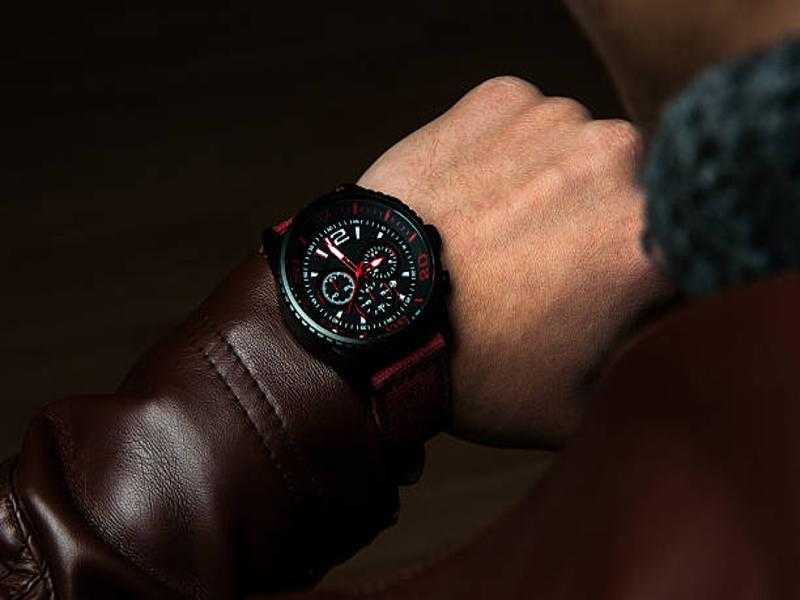watch: (256, 184, 454, 429)
